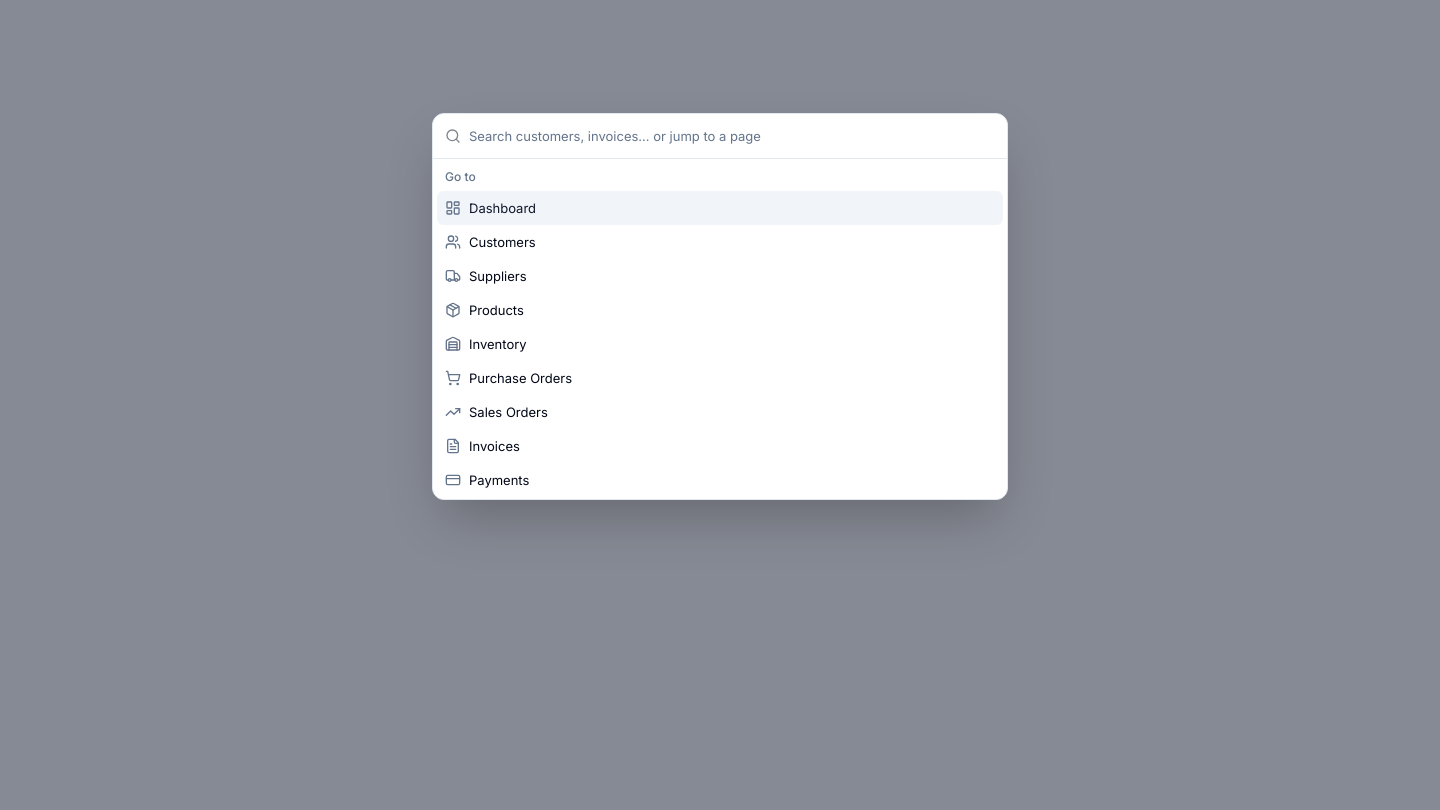
Scenario: CommandPalette › filters navigation commands by the typed query
Type "invoi" into the dropdown with placeholder "Search customers, invoices… or jump to a page" at [732, 136], box x1=469 y1=114 x2=995 y2=158
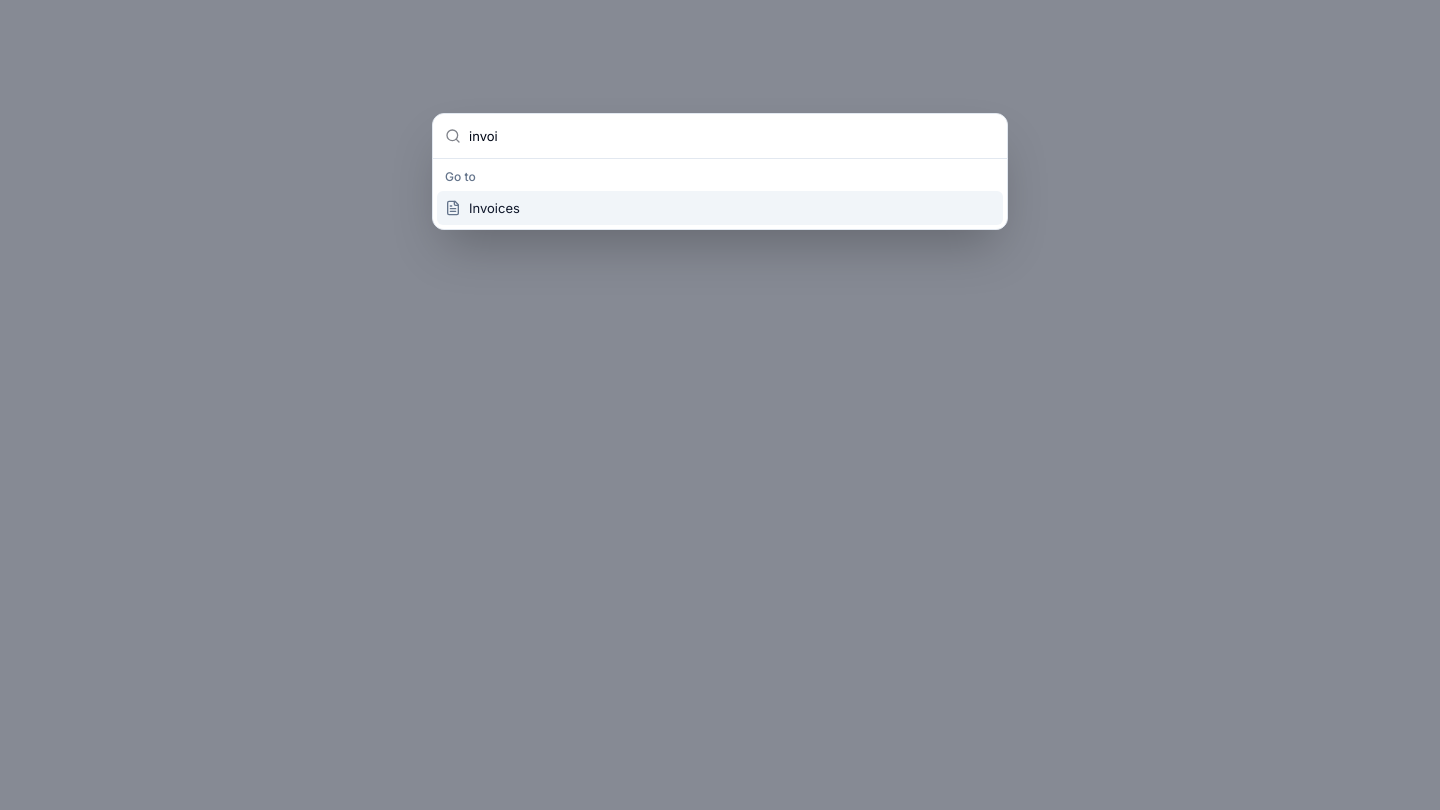
expect the text "Invoices" is shown: met, box x1=469 y1=199 x2=520 y2=217
expect the option "Dashboard" is gone: met
